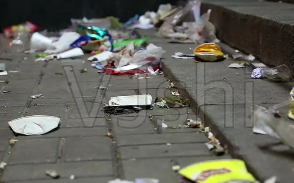garbage: (64, 20, 158, 76), (127, 4, 223, 41), (168, 154, 273, 183), (245, 95, 294, 153), (191, 115, 232, 160), (29, 32, 83, 62), (94, 92, 171, 113), (242, 55, 294, 86), (1, 115, 67, 138), (184, 37, 229, 66), (5, 22, 37, 46), (97, 174, 179, 183), (1, 133, 23, 146), (1, 60, 16, 75), (23, 92, 46, 98)
